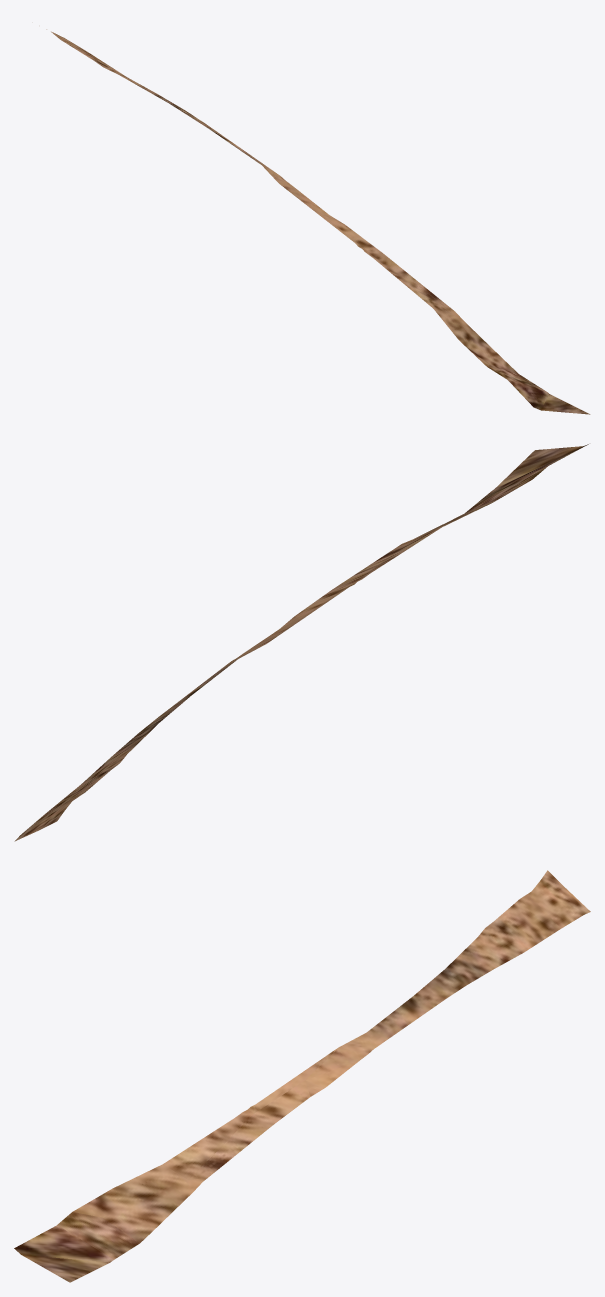
The picture shows the model from 3 angles, top to bottom: view 1: azimuth 30°, elevation 25°; view 2: azimuth 150°, elevation 25°; view 3: azimuth 330°, elevation 25°; orthographic projection. The views are drawn at different scales.
Bounding box in the file's own units: 0.1299 × 0.0721 × 2.09.
1 material, 1 textured.
